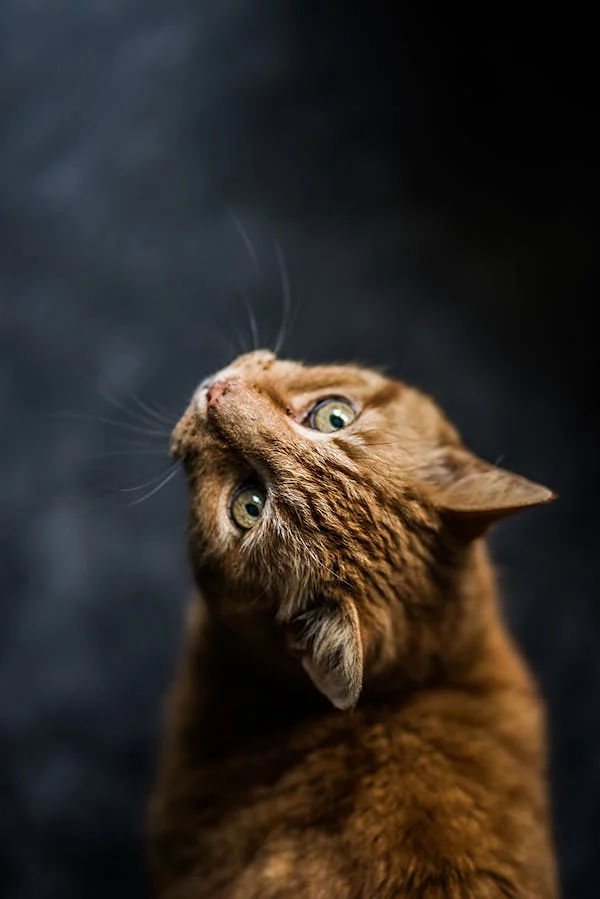Cat: (138, 350, 552, 898)
